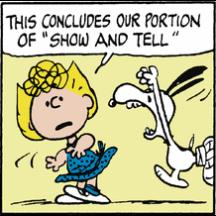snoopy: (106, 64, 216, 188)
